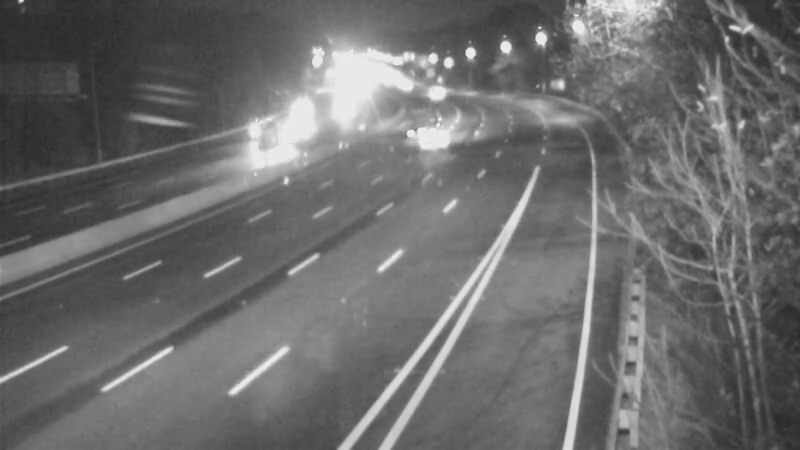vehicle: (394, 91, 444, 141), (410, 114, 460, 164), (233, 116, 283, 166), (275, 97, 325, 147), (317, 82, 367, 132)
